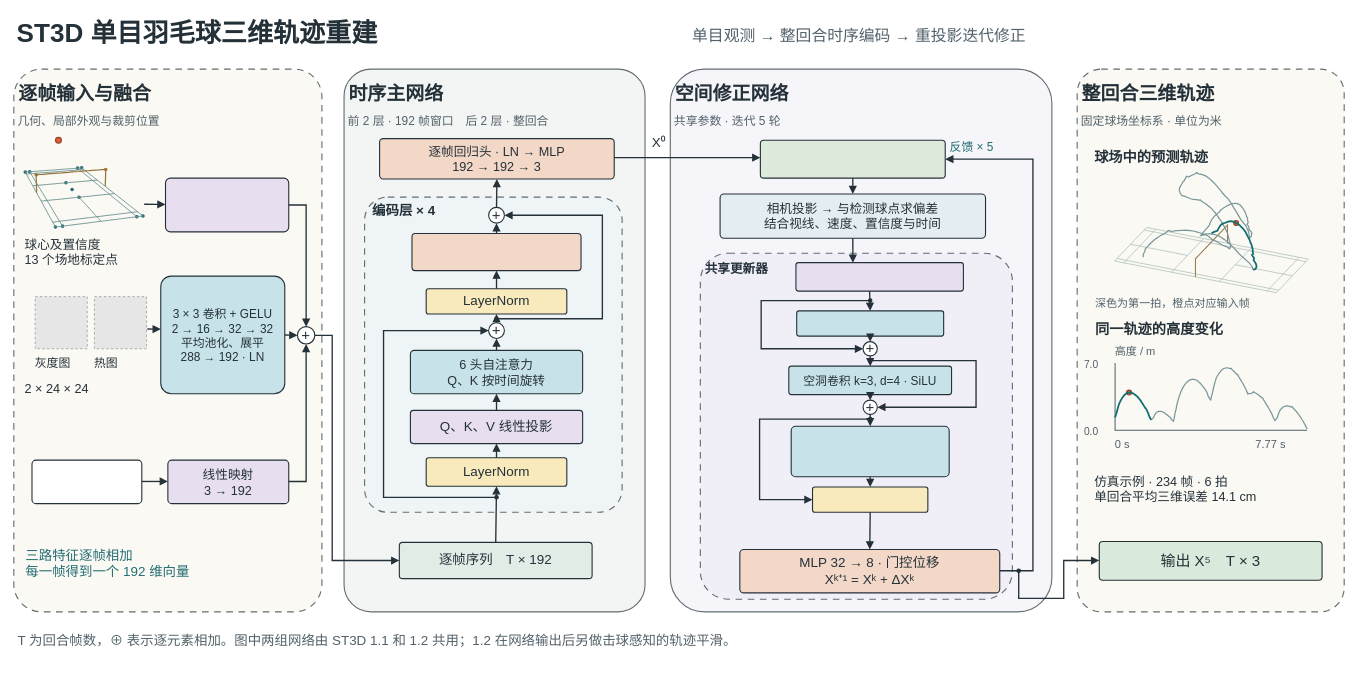
Some shapes in this 1359 by 675 pixel diagram are drawn without their labels. Grey dashed boxes stand in for pictures. The shapes that lost their labels are listed below. From the top down, each one's centre as x and y in pixels, then its label:
the point at 852,158: 当前三维轨迹 Xᵏ
the point at 227,204: 球点 / 场地编码 96 + 96 → 192
the point at 496,251: 前馈网络 · GELU 192 → 768 → 192
the point at 879,276: 线性映射 31 → 32
the point at 870,323: 时序卷积 k=5 · SiLU
the point at 869,451: 每 16 帧平均池化 4 头全局注意力 广播回逐帧特征
the point at 86,481: 裁剪中心与尺度 (u, v, s)
the point at 870,499: Add & Norm
